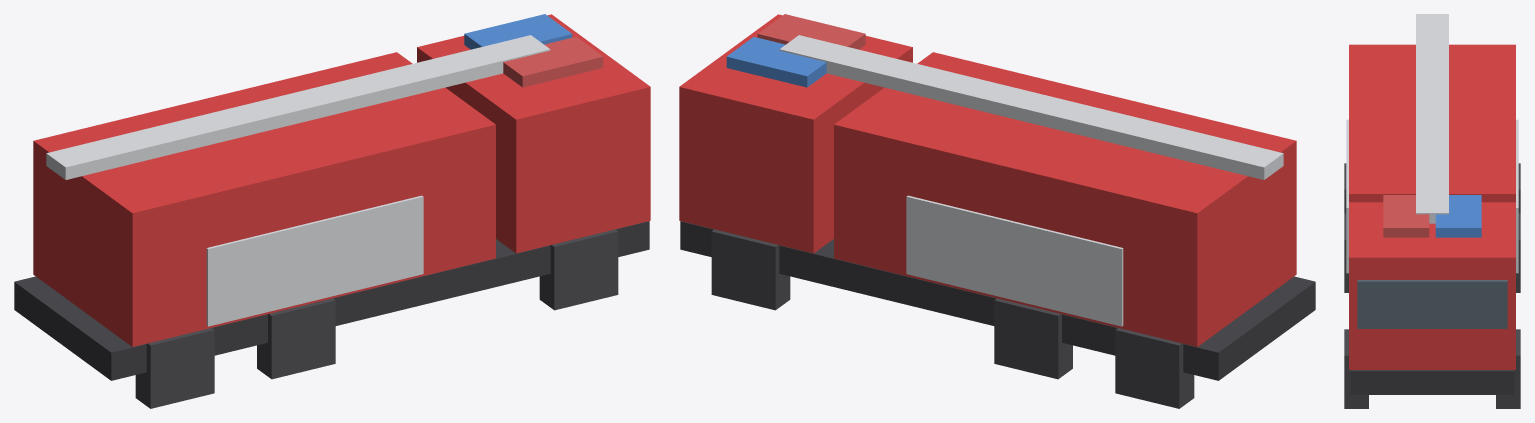
File: AED_FireTruck.gltf
The picture shows the model from 3 angles, left to right: view 1: azimuth 30°, elevation 25°; view 2: azimuth 150°, elevation 25°; view 3: azimuth 270°, elevation 25°; orthographic projection. The views are drawn at different scales.
Parts seen in each view (by area): view 1: AED_FireTruck; view 2: AED_FireTruck; view 3: AED_FireTruck.
Boxes of the visible parts, box(x1,y1,x2,y2) form: AED_FireTruck: box(14, 14, 650, 408); AED_FireTruck: box(679, 14, 1315, 408); AED_FireTruck: box(1344, 14, 1520, 408).
Bounding box in the file's own units: 8.16 × 3.13 × 2.7.
